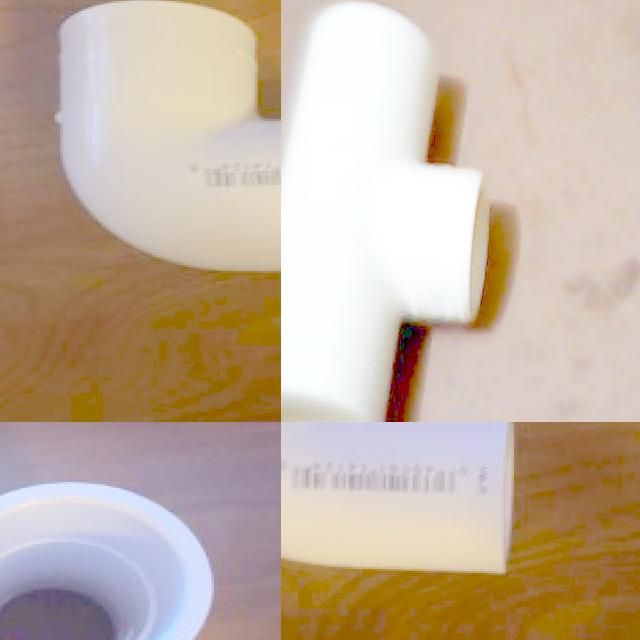L Joint: (55, 0, 281, 275), (281, 422, 516, 575)
T Joint: (281, 0, 489, 422)
